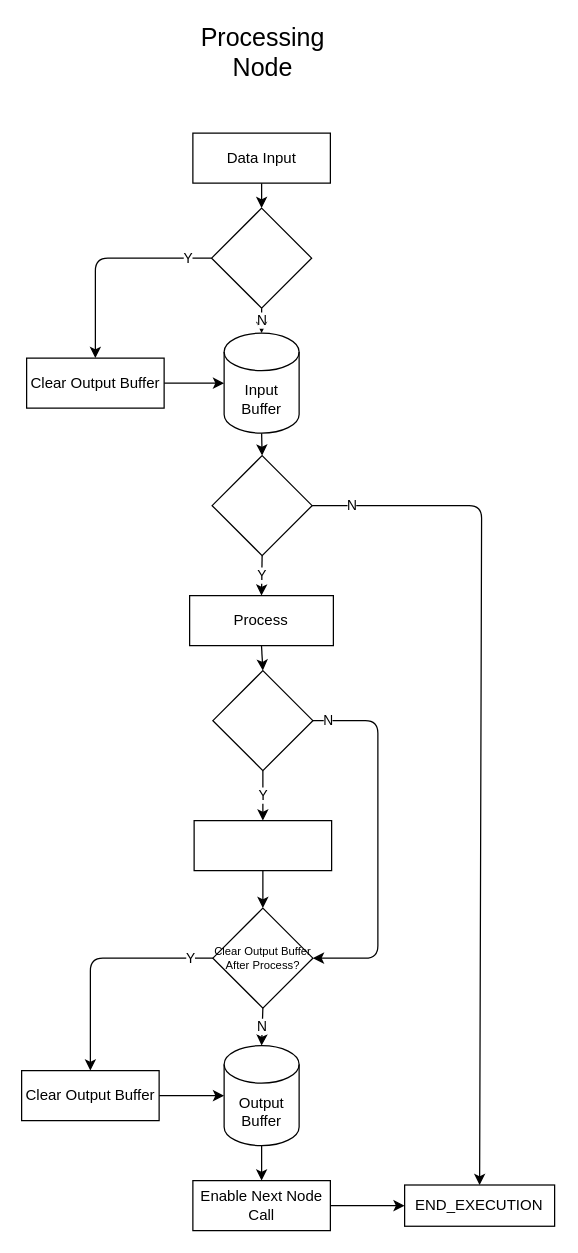
The diagram is 578 pixels wide and 1253 high, and some of its shapes have lost their labels. The shapes that lost their labels are listed below. From the top down, each one's centre as x and y in pixels, then its label:
(x=261, y=257): Clear Output Buffer On Data Input?
(x=261, y=505): Processing Condition Satisfied?
(x=262, y=720): Clear Input Buffer After Process?
(x=262, y=845): Clear Input Buffer
